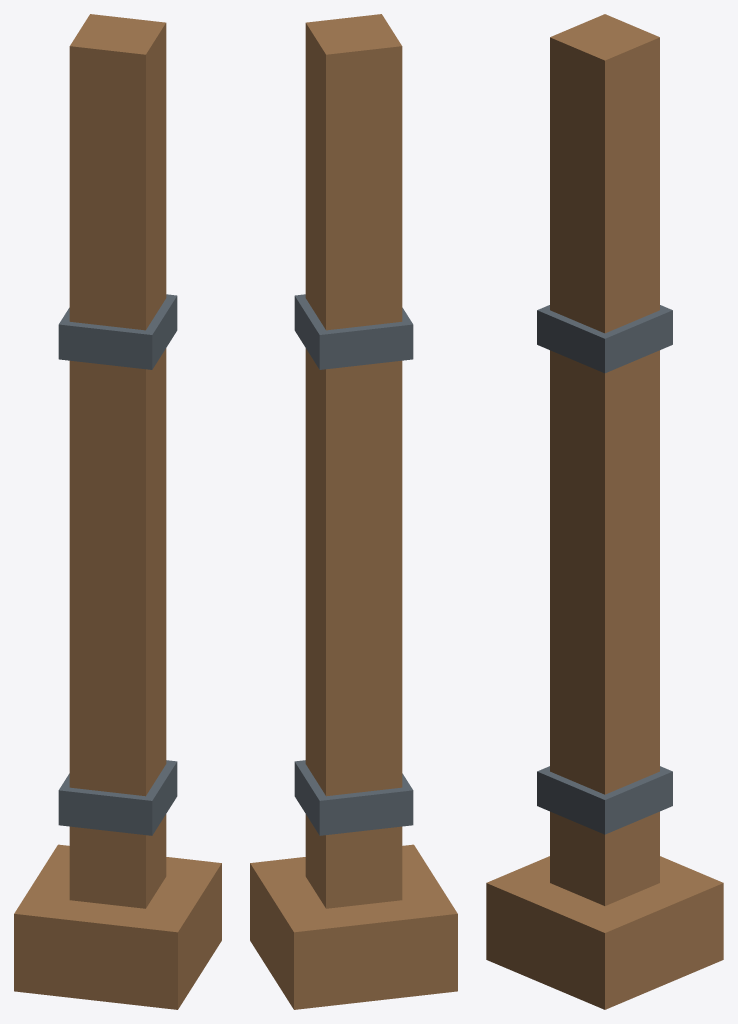
File: Grassland_SignPost.fbx
3 views of the same model, side by side, from view 1: azimuth 30°, elevation 25°; view 2: azimuth 150°, elevation 25°; view 3: azimuth 270°, elevation 25° (orthographic).
Visible parts, largest first — view 1: Grassland_SignPost; view 2: Grassland_SignPost; view 3: Grassland_SignPost.
Boxes of the visible parts, box(x1,y1,x2,y2) form: Grassland_SignPost: box(14, 14, 221, 1009); Grassland_SignPost: box(250, 14, 457, 1009); Grassland_SignPost: box(486, 14, 723, 1009).
Size of the model in its own units: 28 by 120 by 28.
